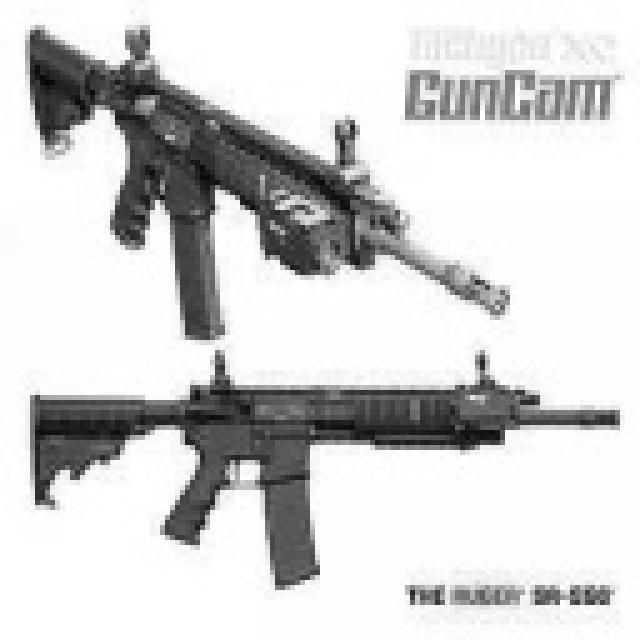Rifle: (0, 0, 533, 349), (8, 352, 640, 605)
